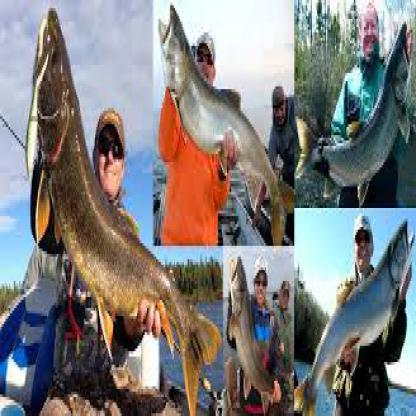fish: (23, 5, 216, 406), (155, 0, 291, 238), (290, 222, 414, 414), (289, 7, 415, 194), (222, 245, 278, 406)
